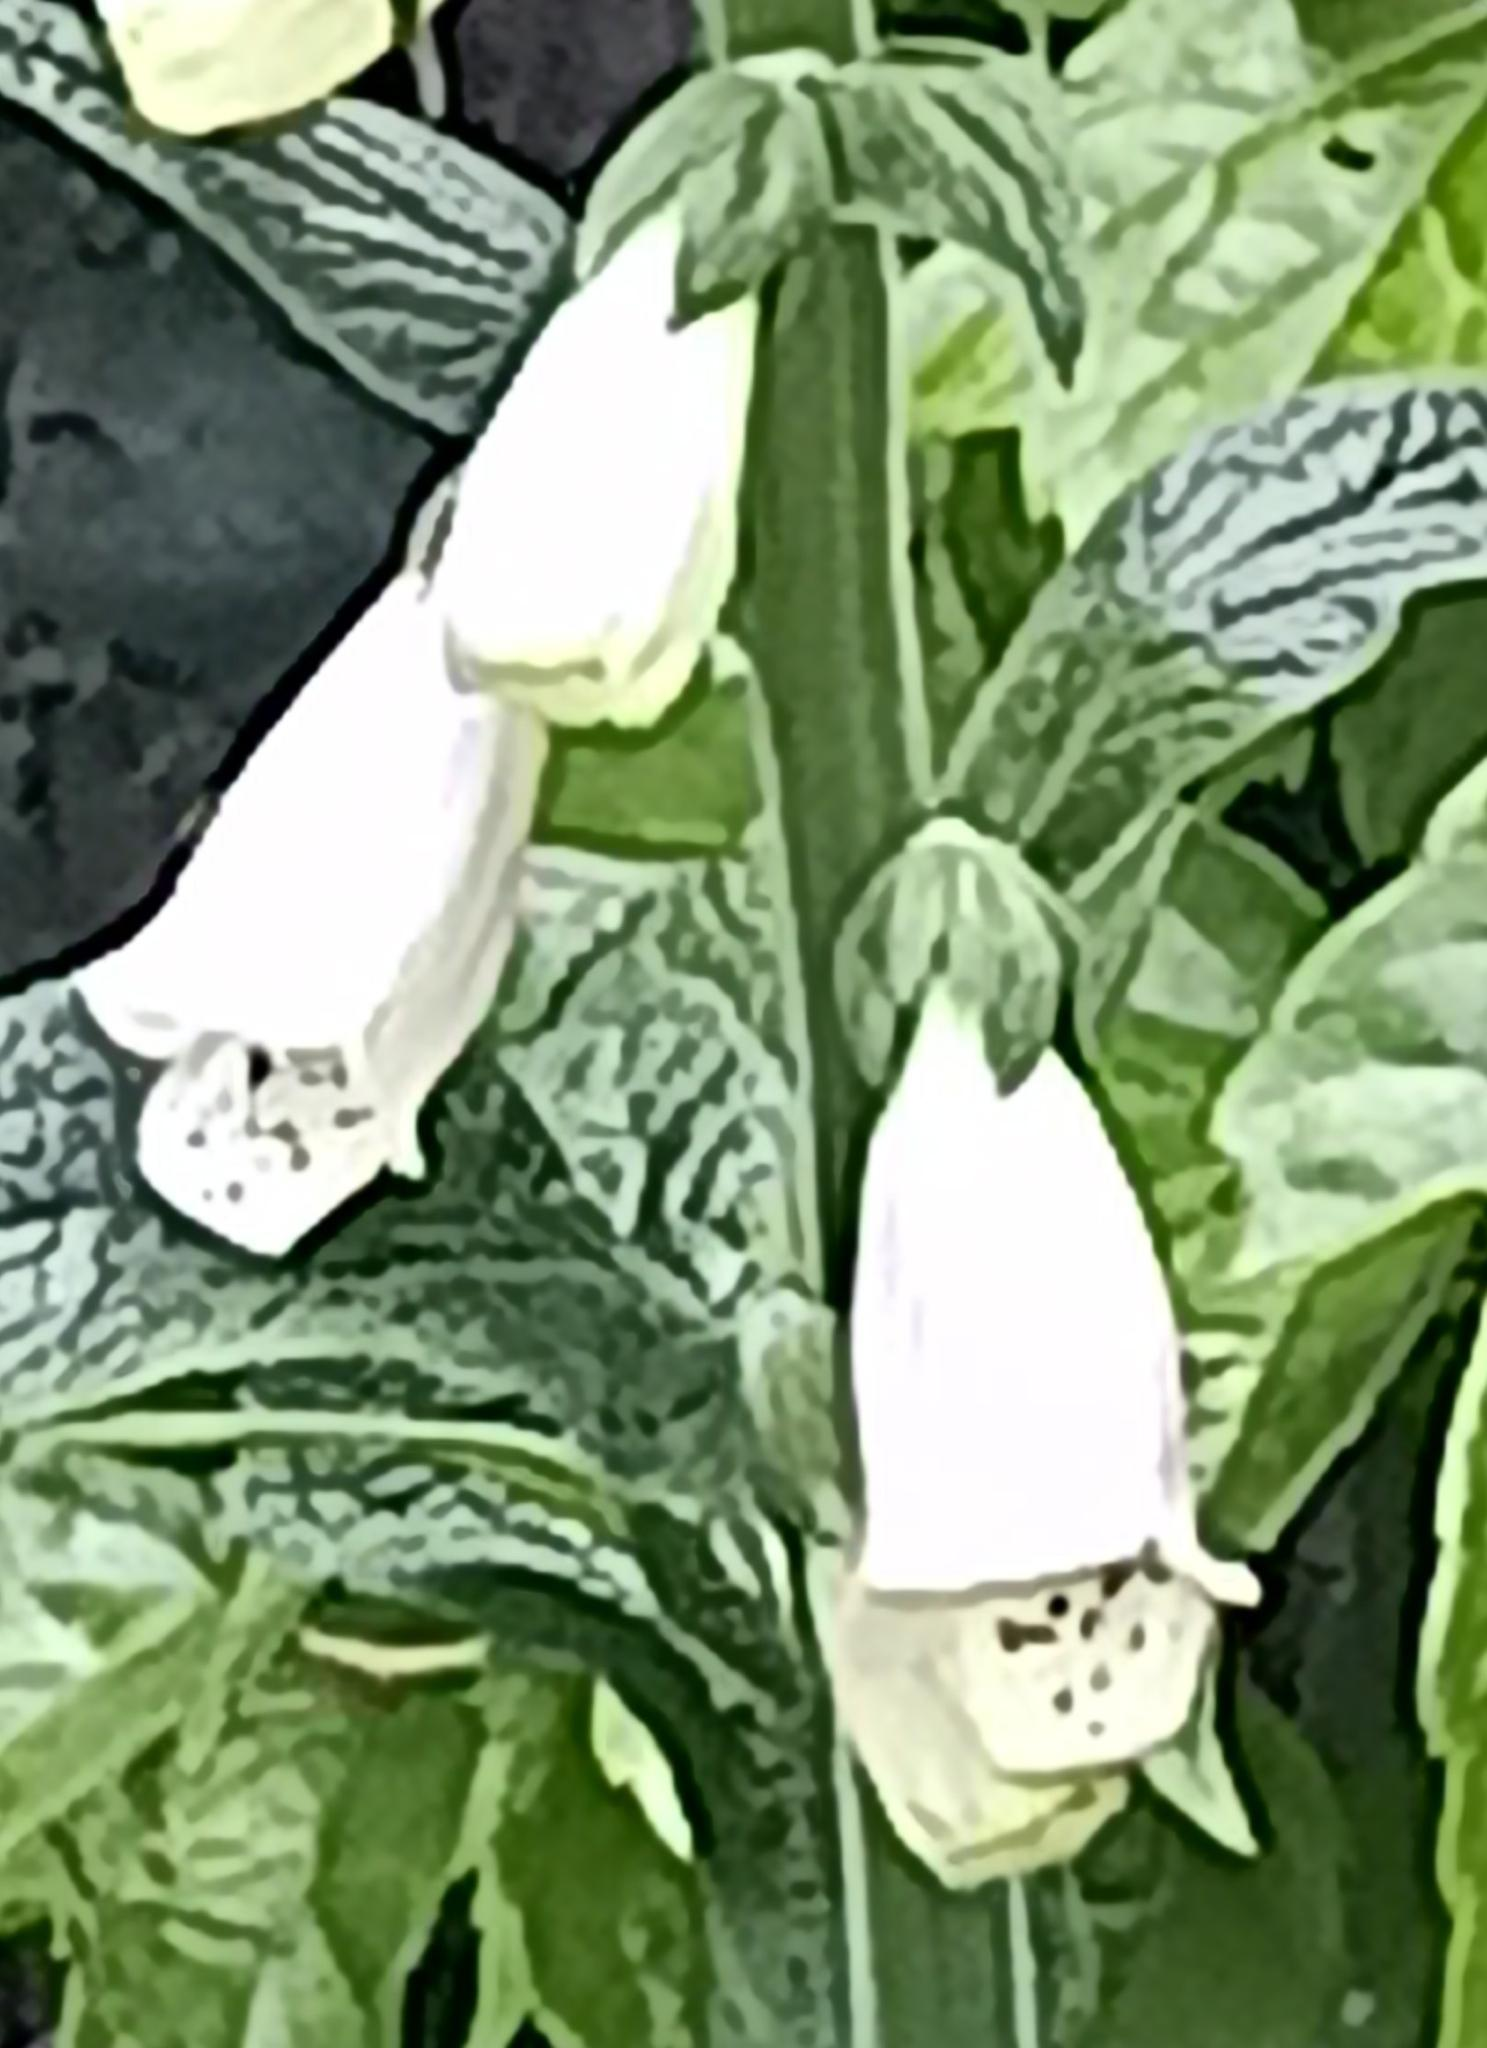Digitalis L: (784, 940, 1274, 1908), (13, 475, 628, 1226), (428, 140, 821, 744)
